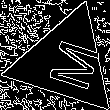M_W: (34, 32, 97, 92)
